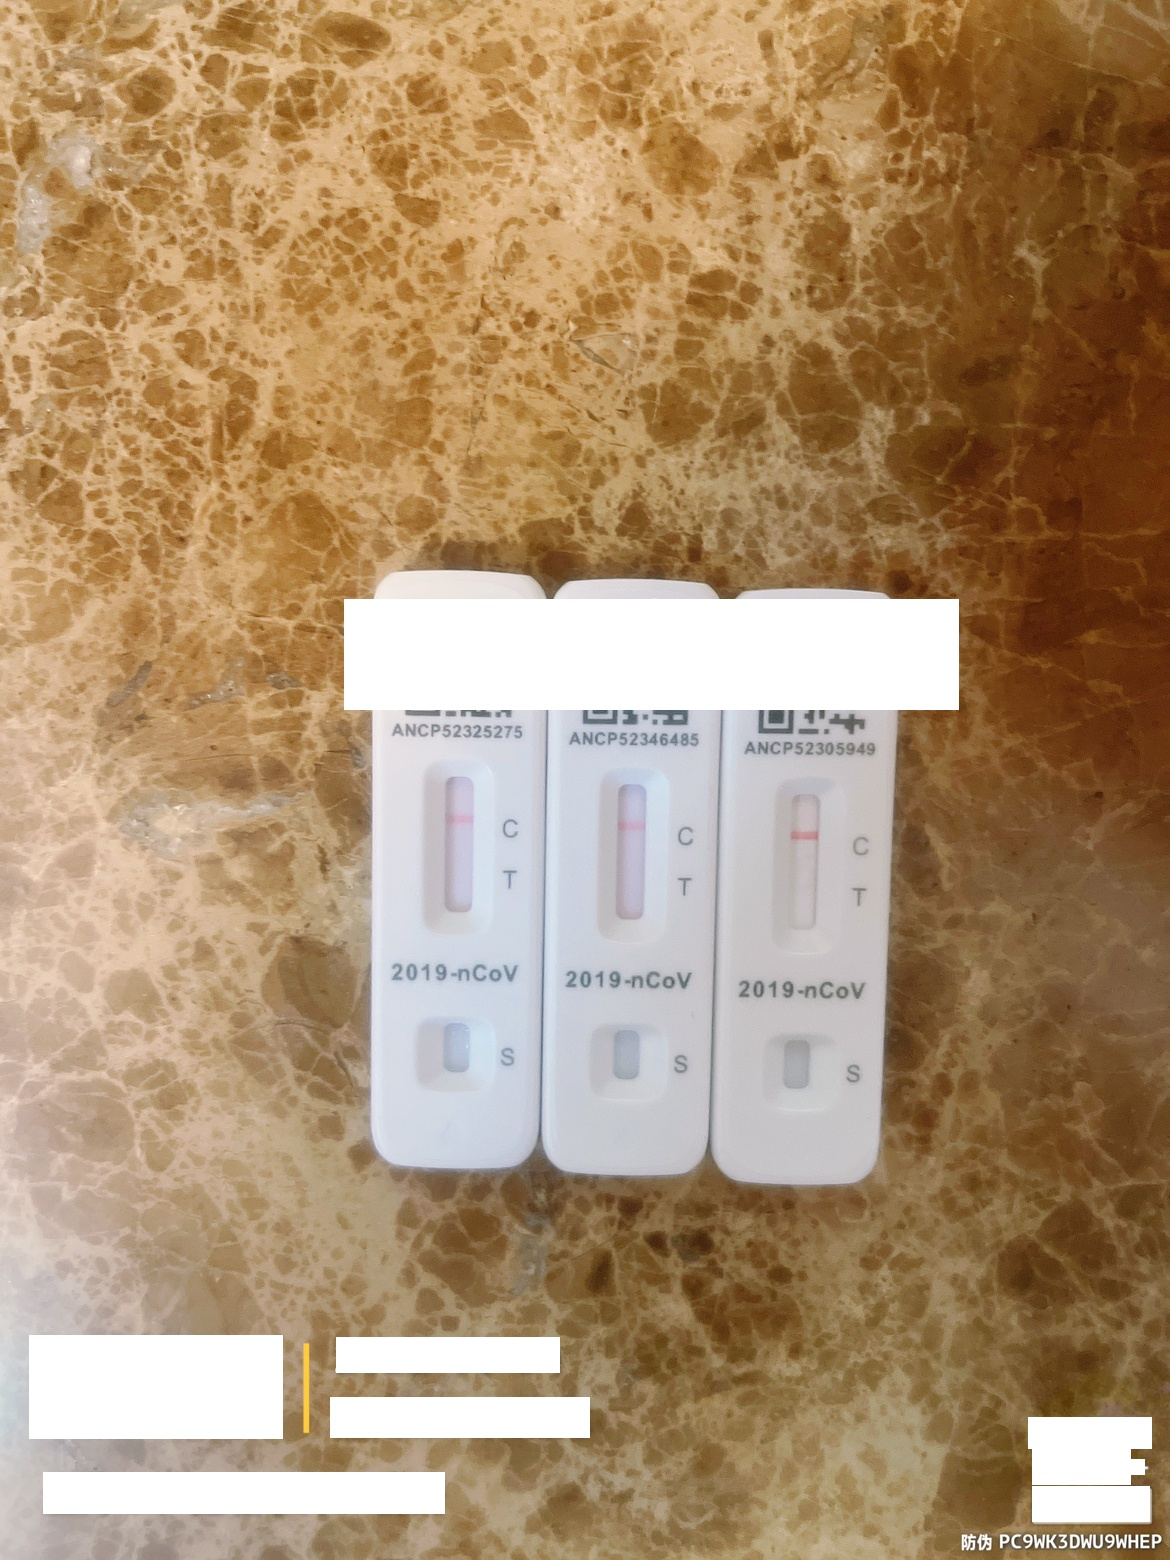negative: (422, 763, 492, 931), (596, 768, 666, 935), (774, 778, 836, 947)
